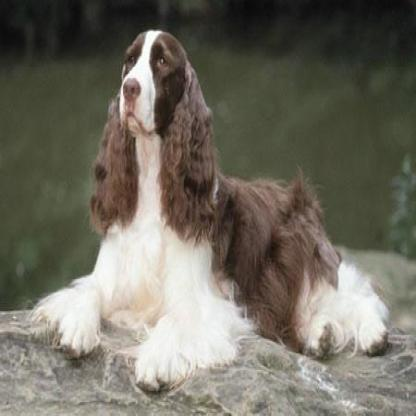Welsh_springer_spaniel: (35, 28, 390, 394)
